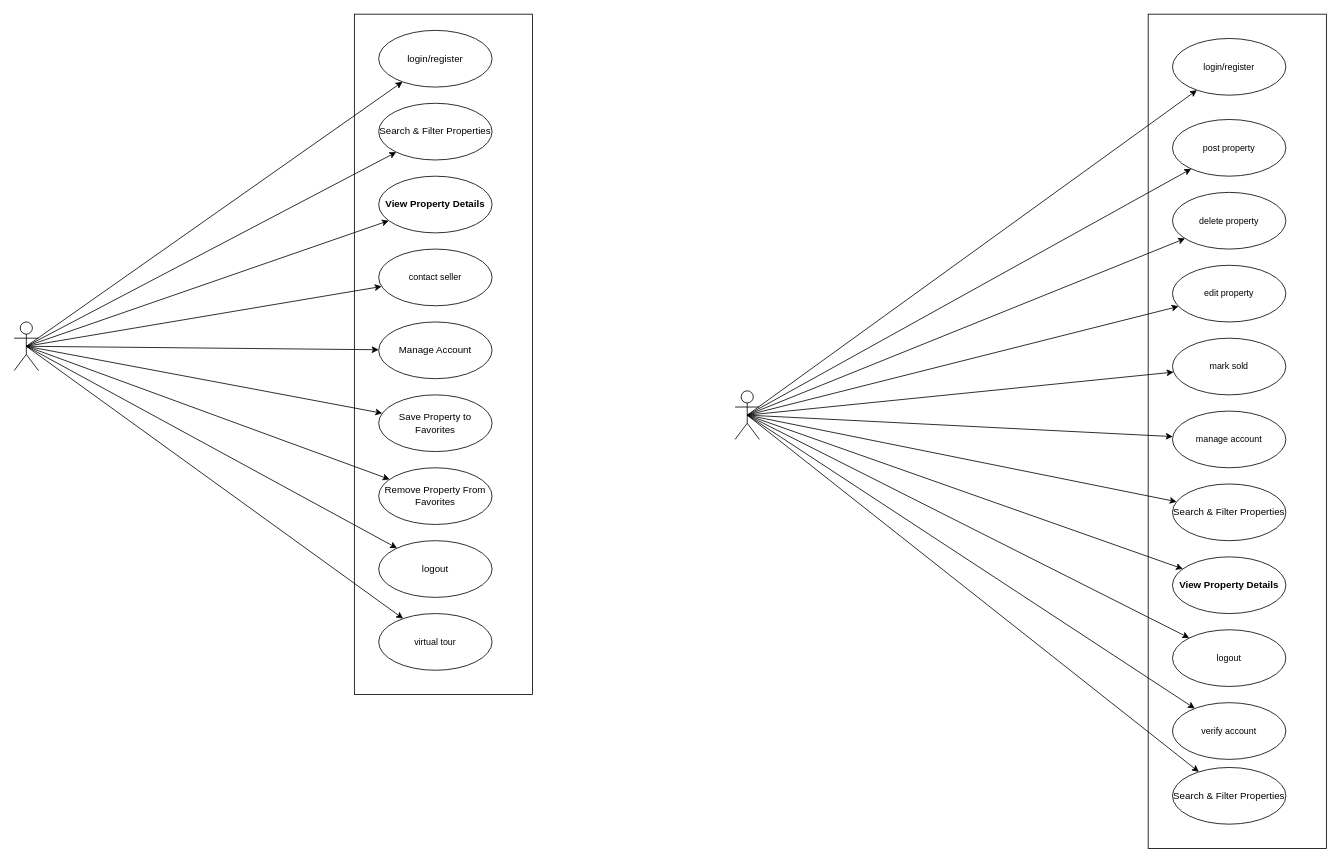
Image size: 1341x863. Some labels were removed from this diagram. Each missing label, with the centre of its shape:
buyer: the point at 25,346
seller: the point at 746,414
